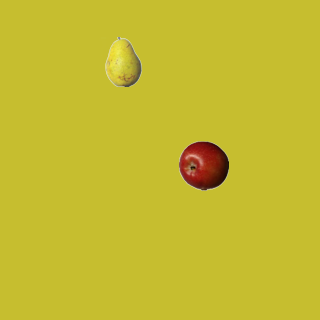Apple Braeburn: (178, 140, 228, 190)
Pear Monster: (98, 36, 148, 86)
